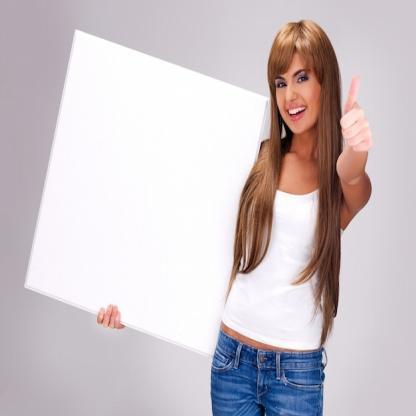thumb_up: (337, 73, 376, 157)
